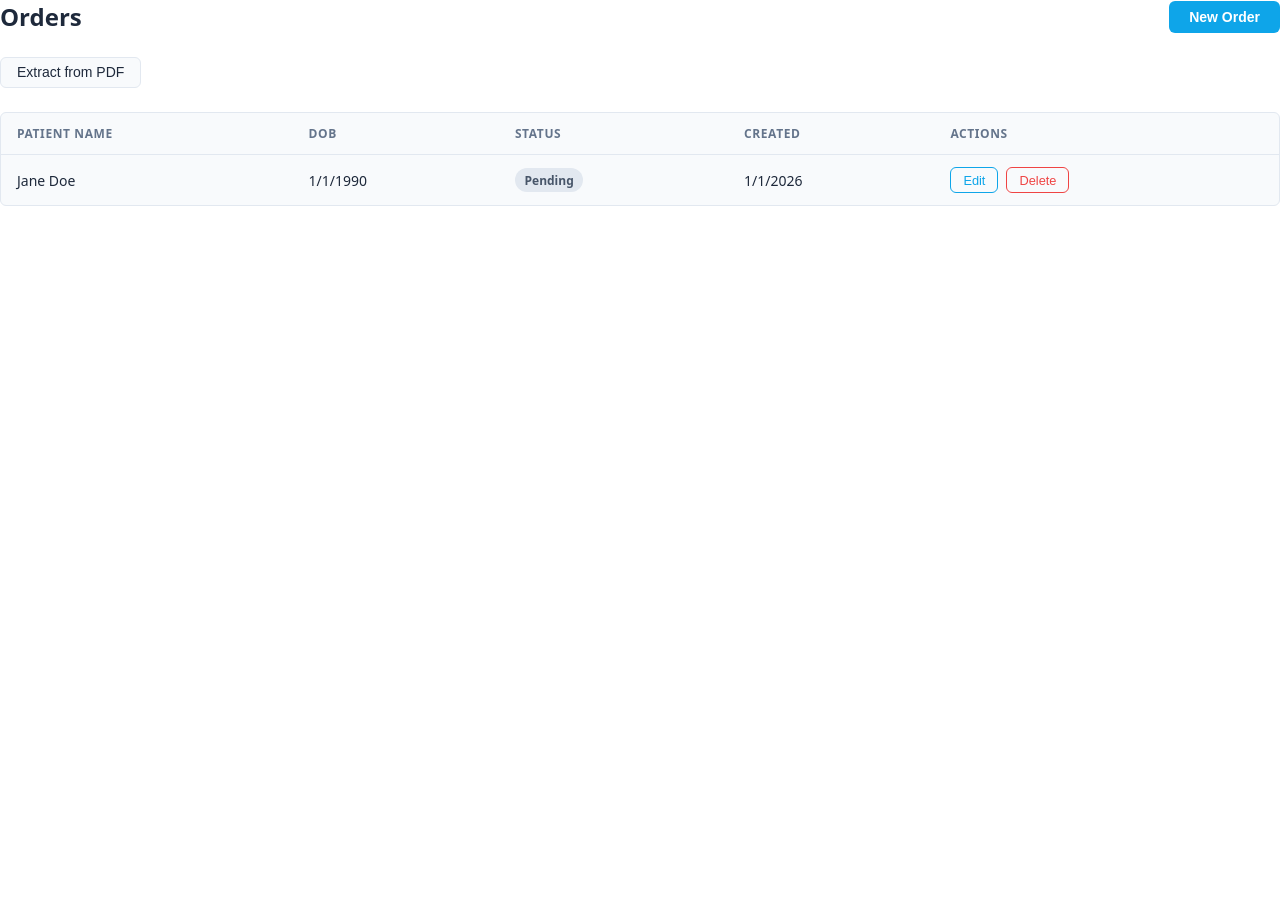
Test: OrdersPage › shows error message when updateOrder fails
Check: the text "Jane Doe" is shown, box [1,154,292,205]
Click the button with aria-label "Edit order order-1". click: click(974, 180)
box: [950,167,998,193]
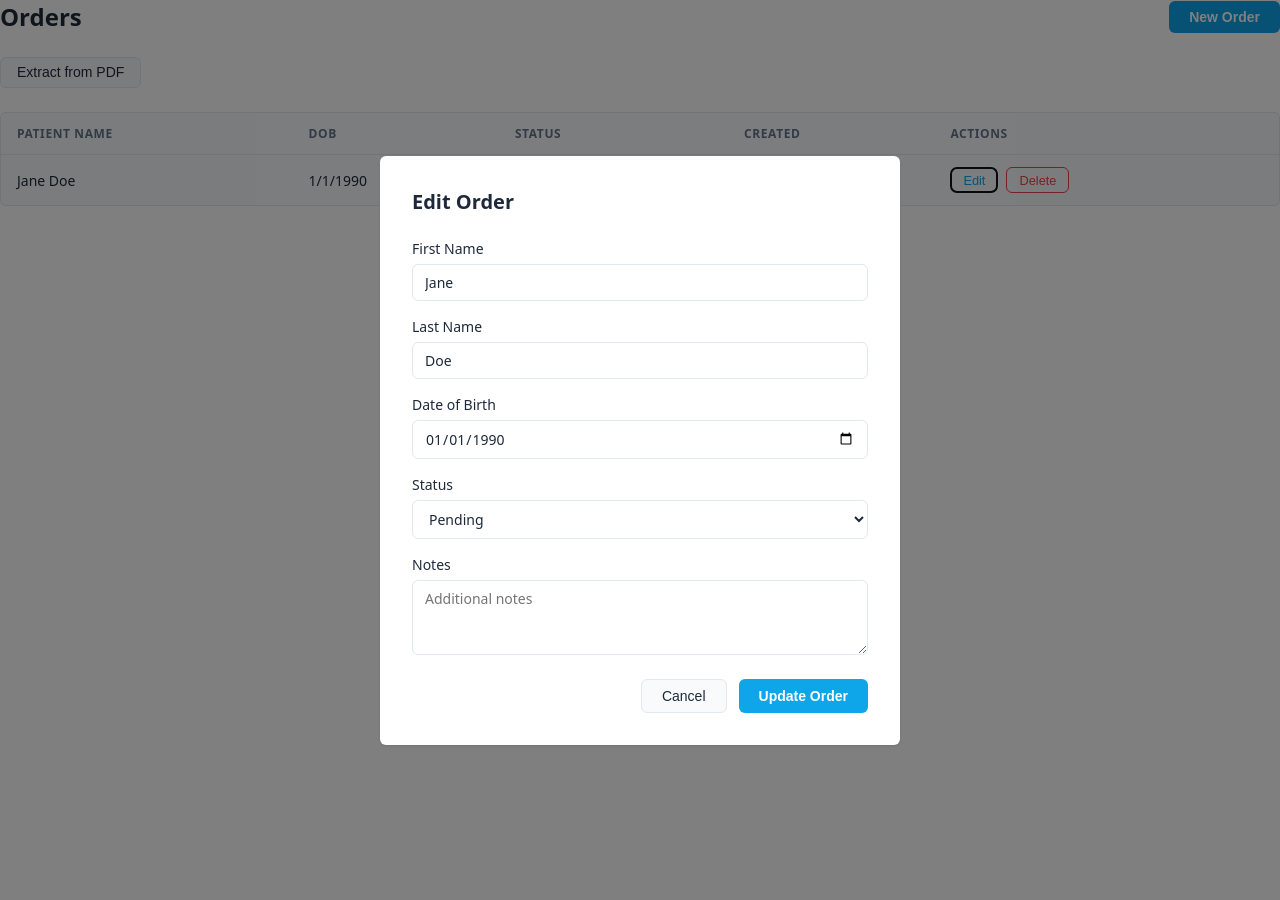
Click the button "Update Order". click: click(803, 696)
box: [738,678,868,712]
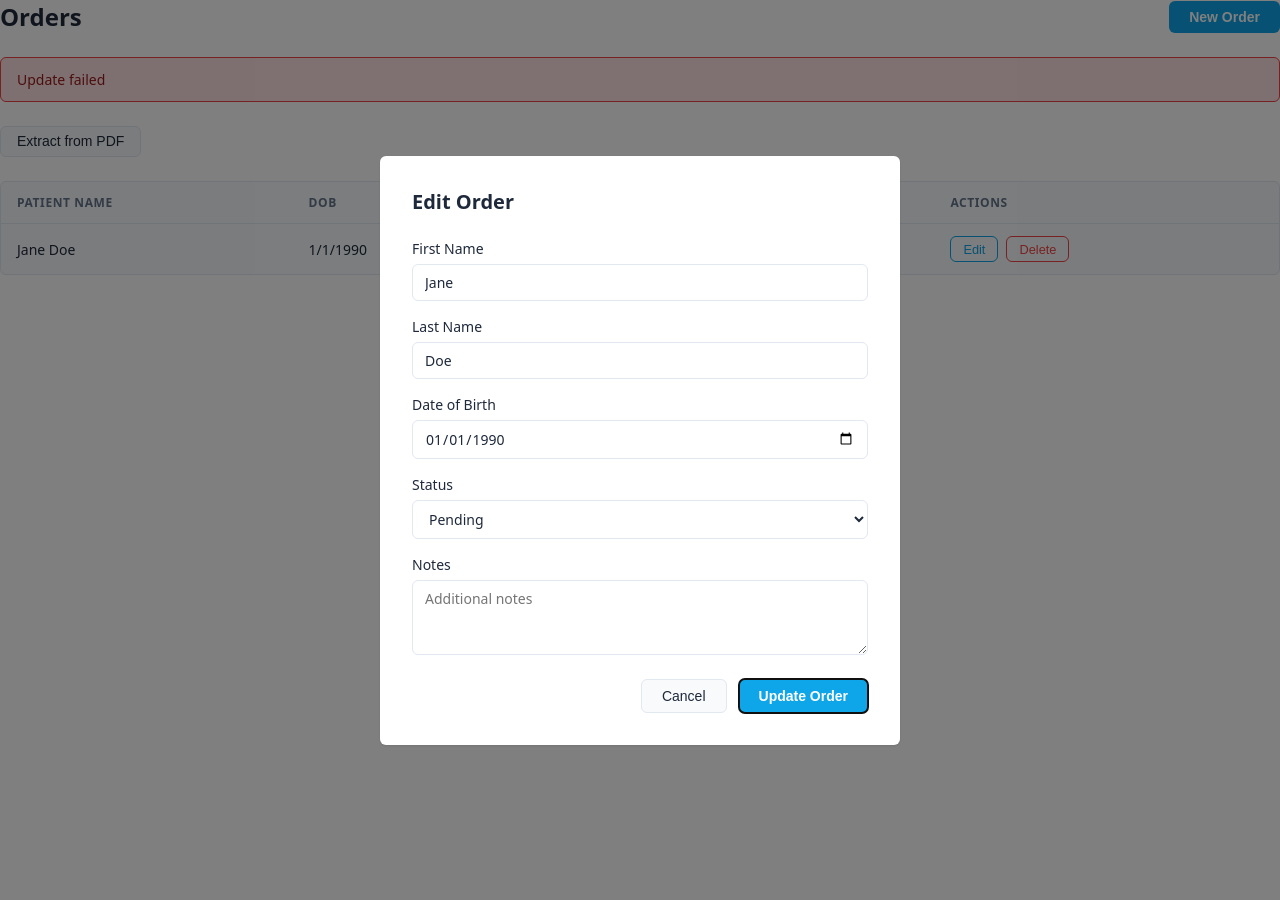
Check: the message reads "Update failed", box [17,70,105,89]
